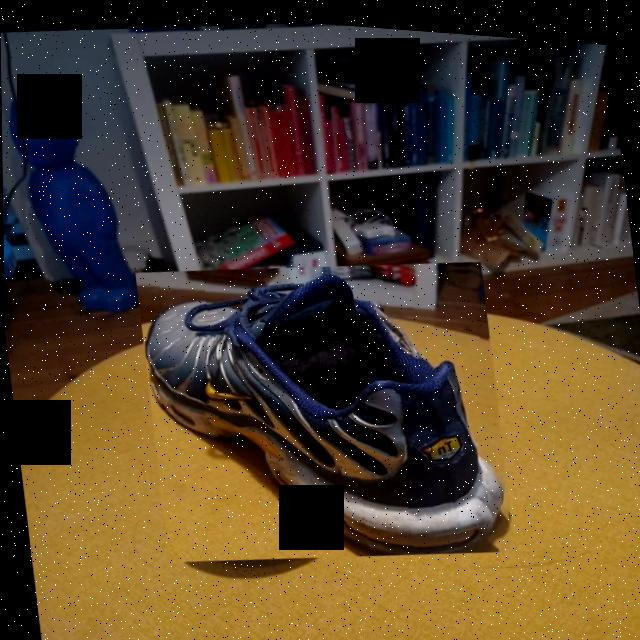shoe: (133, 234, 514, 580)
